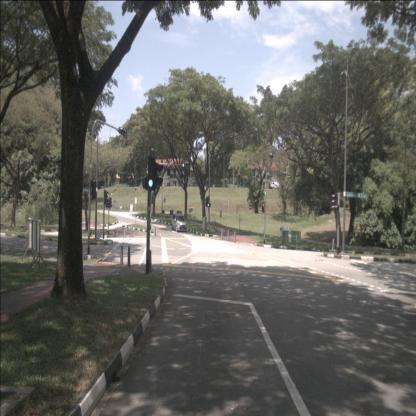vehicle-car: (172, 213, 186, 231), (269, 181, 280, 190)
